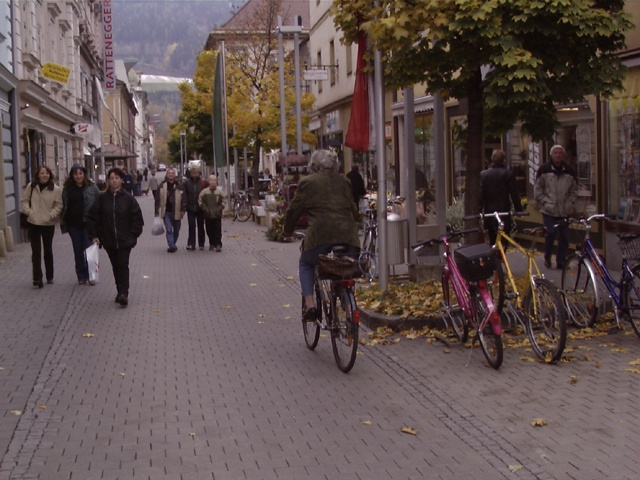person: (298, 145, 360, 334), (93, 164, 143, 310), (60, 160, 103, 286), (23, 165, 59, 289)
